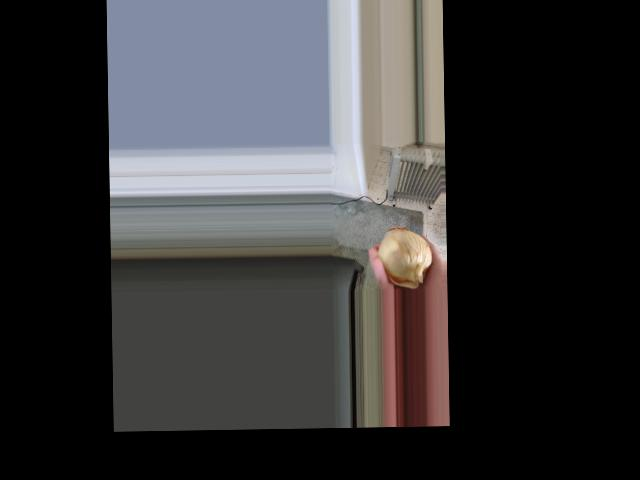onion: (378, 224, 436, 285)
